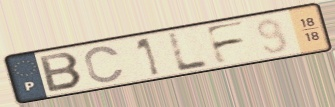1: (134, 35, 162, 77)
9: (255, 16, 290, 56)
B: (37, 51, 86, 94)
C: (82, 45, 127, 84)
F: (202, 19, 248, 67)
L: (166, 30, 212, 73)
